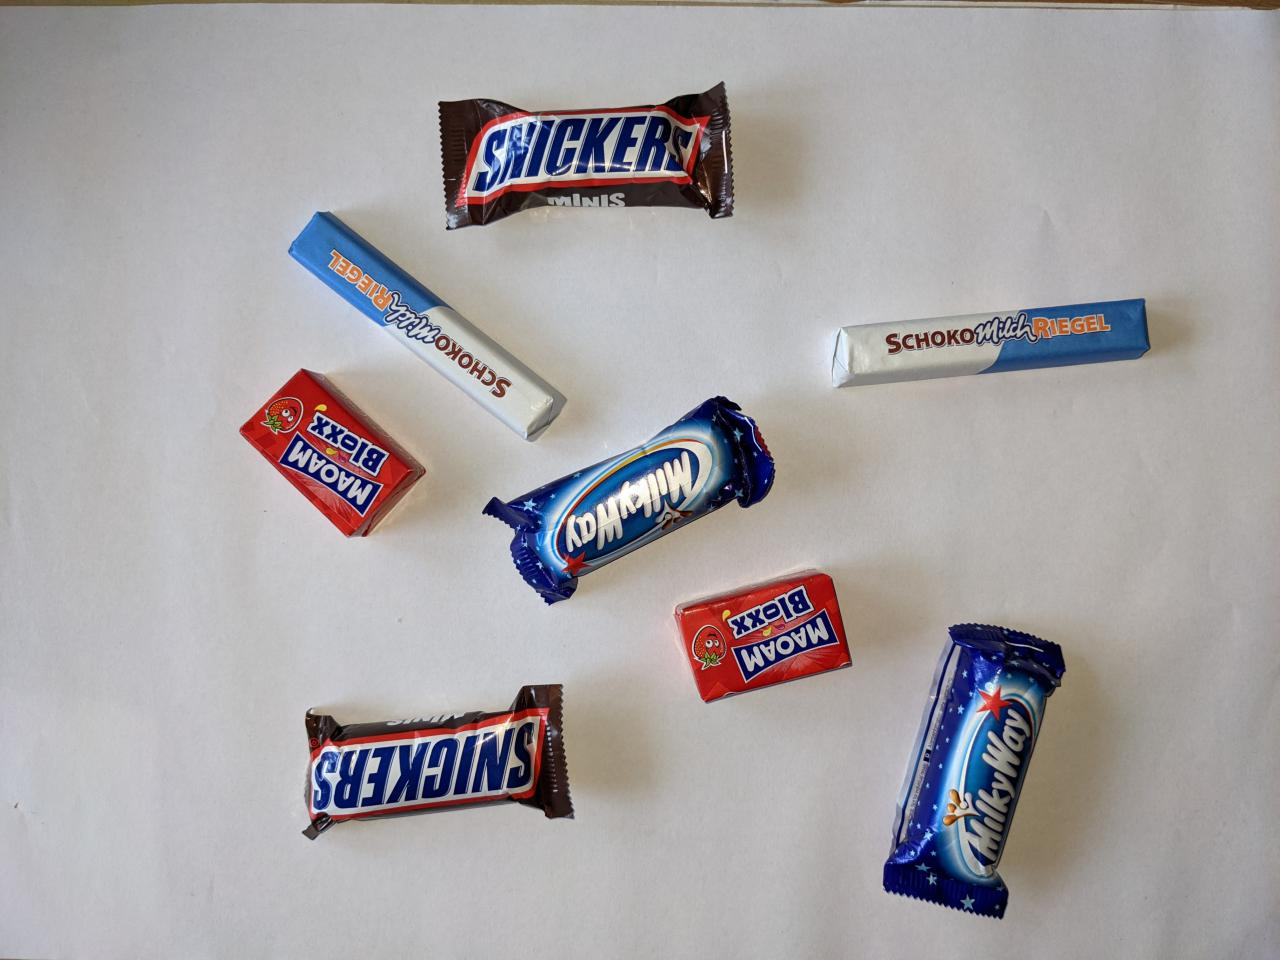MAOAM: (235, 363, 433, 543), (664, 564, 862, 714)
MilkyWay: (474, 391, 781, 613), (874, 615, 1075, 929)
Schokoriegel: (280, 201, 573, 448), (813, 285, 1157, 398)
Snickers: (428, 74, 742, 235), (293, 678, 580, 848)
